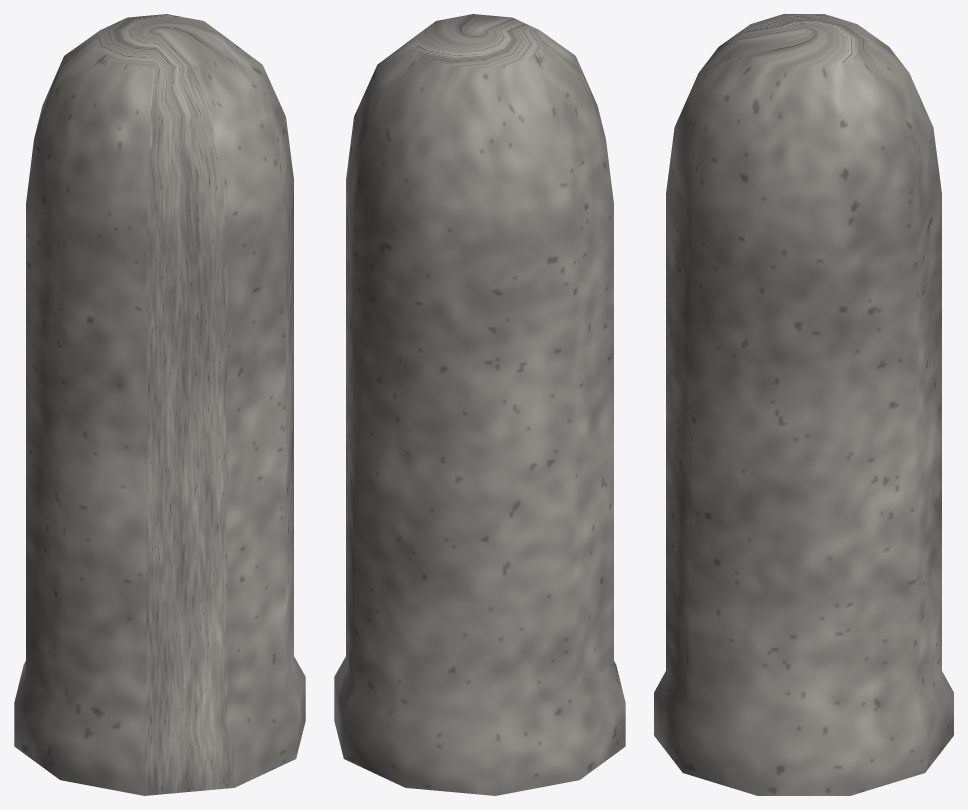
Rendered from SM_Morin_Dissuasore_LOD1.fbx.
3 renders of one model, left to right at view 1: azimuth 30°, elevation 25°; view 2: azimuth 150°, elevation 25°; view 3: azimuth 270°, elevation 25°, orthographic.
Visible parts, largest first — view 1: SM_Morin_Dissuasore_LOD1; view 2: SM_Morin_Dissuasore_LOD1; view 3: SM_Morin_Dissuasore_LOD1.
Part boxes in pixels (bbox=[...]): SM_Morin_Dissuasore_LOD1: bbox=[14, 14, 305, 795]; SM_Morin_Dissuasore_LOD1: bbox=[334, 14, 625, 795]; SM_Morin_Dissuasore_LOD1: bbox=[654, 14, 953, 795].
Size of the model in its own units: 23.78 by 25 by 65.
Materials: 1 (1 with a texture image).
